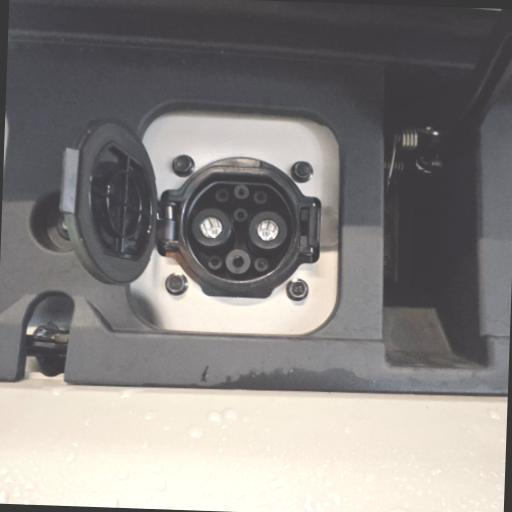DC_charging_port: (176, 164, 304, 290)
DC_hole: (190, 206, 232, 248), (247, 208, 288, 250)
PE: (223, 248, 252, 275)
